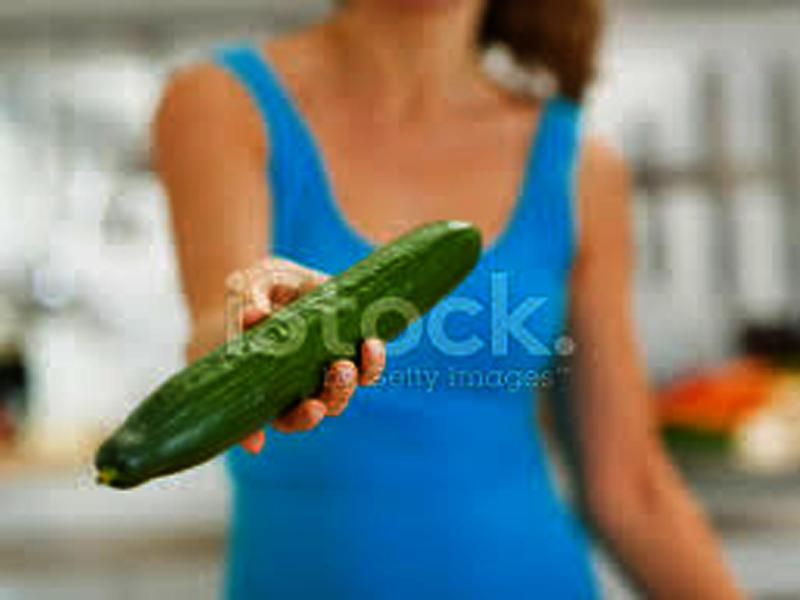Cucumber: (96, 220, 482, 490)
